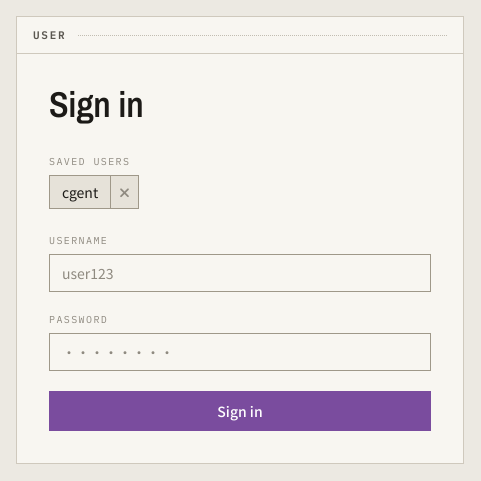
Test case: Login - saved users › fills the username and moves focus to the password on a click
Click the button named "use cgent" at (80, 192), box [50,176,110,208]
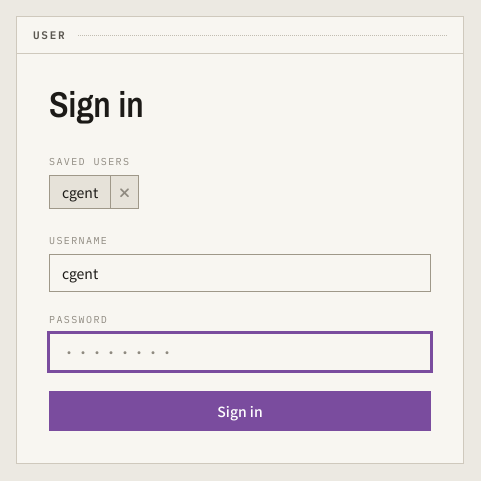
Now the field labelled "Username" holds "cgent", box [49,254,431,292]
